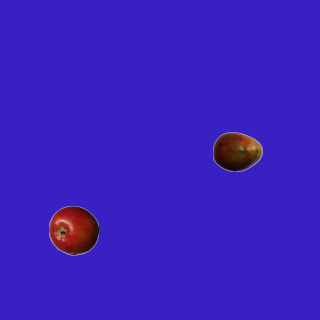Apple Braeburn: (48, 205, 98, 255)
Mango Red: (212, 126, 262, 176)
